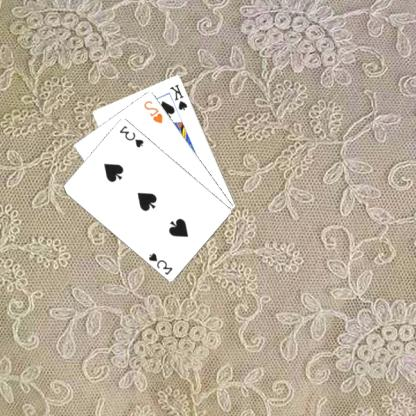2H: (142, 97, 166, 124)
3S: (118, 123, 147, 149), (148, 250, 176, 276)
KS: (169, 81, 191, 112)
